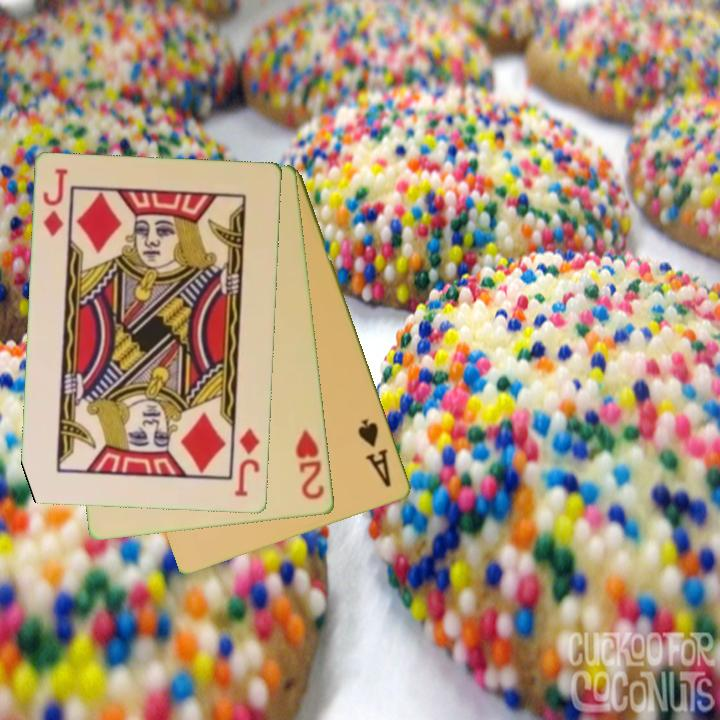2h: (292, 426, 327, 503)
As: (355, 416, 395, 491)
Jd: (231, 425, 263, 500), (39, 165, 71, 240)
